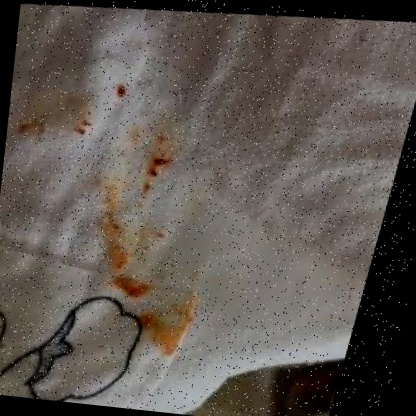kimchi: (86, 198, 175, 302), (18, 87, 100, 147), (147, 283, 207, 357), (135, 140, 183, 195), (83, 172, 122, 224), (137, 293, 177, 332), (106, 76, 134, 107)
